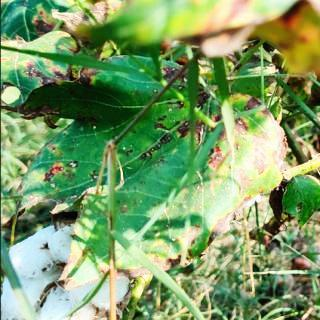blight: (20, 55, 293, 282)
